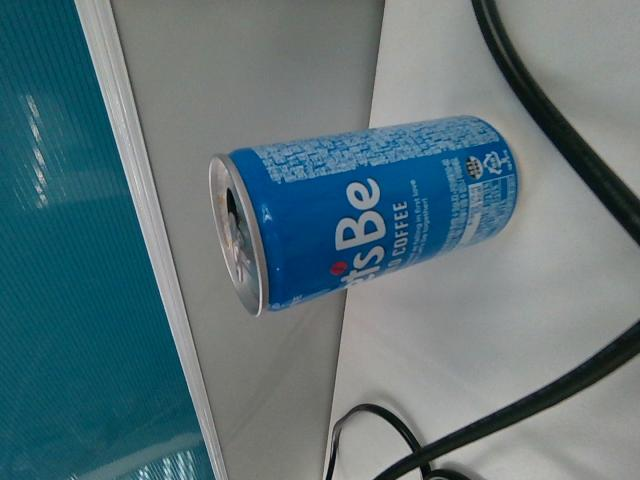letsbe: (208, 113, 520, 316)
